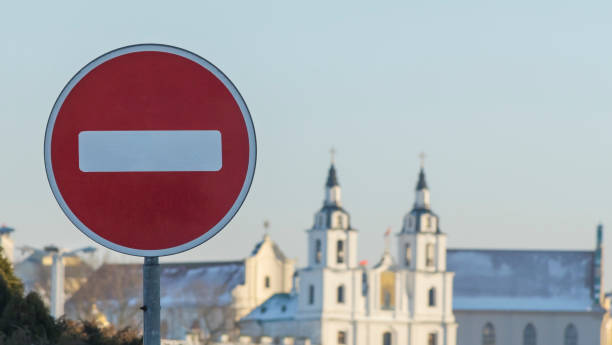Girilmez: (45, 42, 264, 258)
